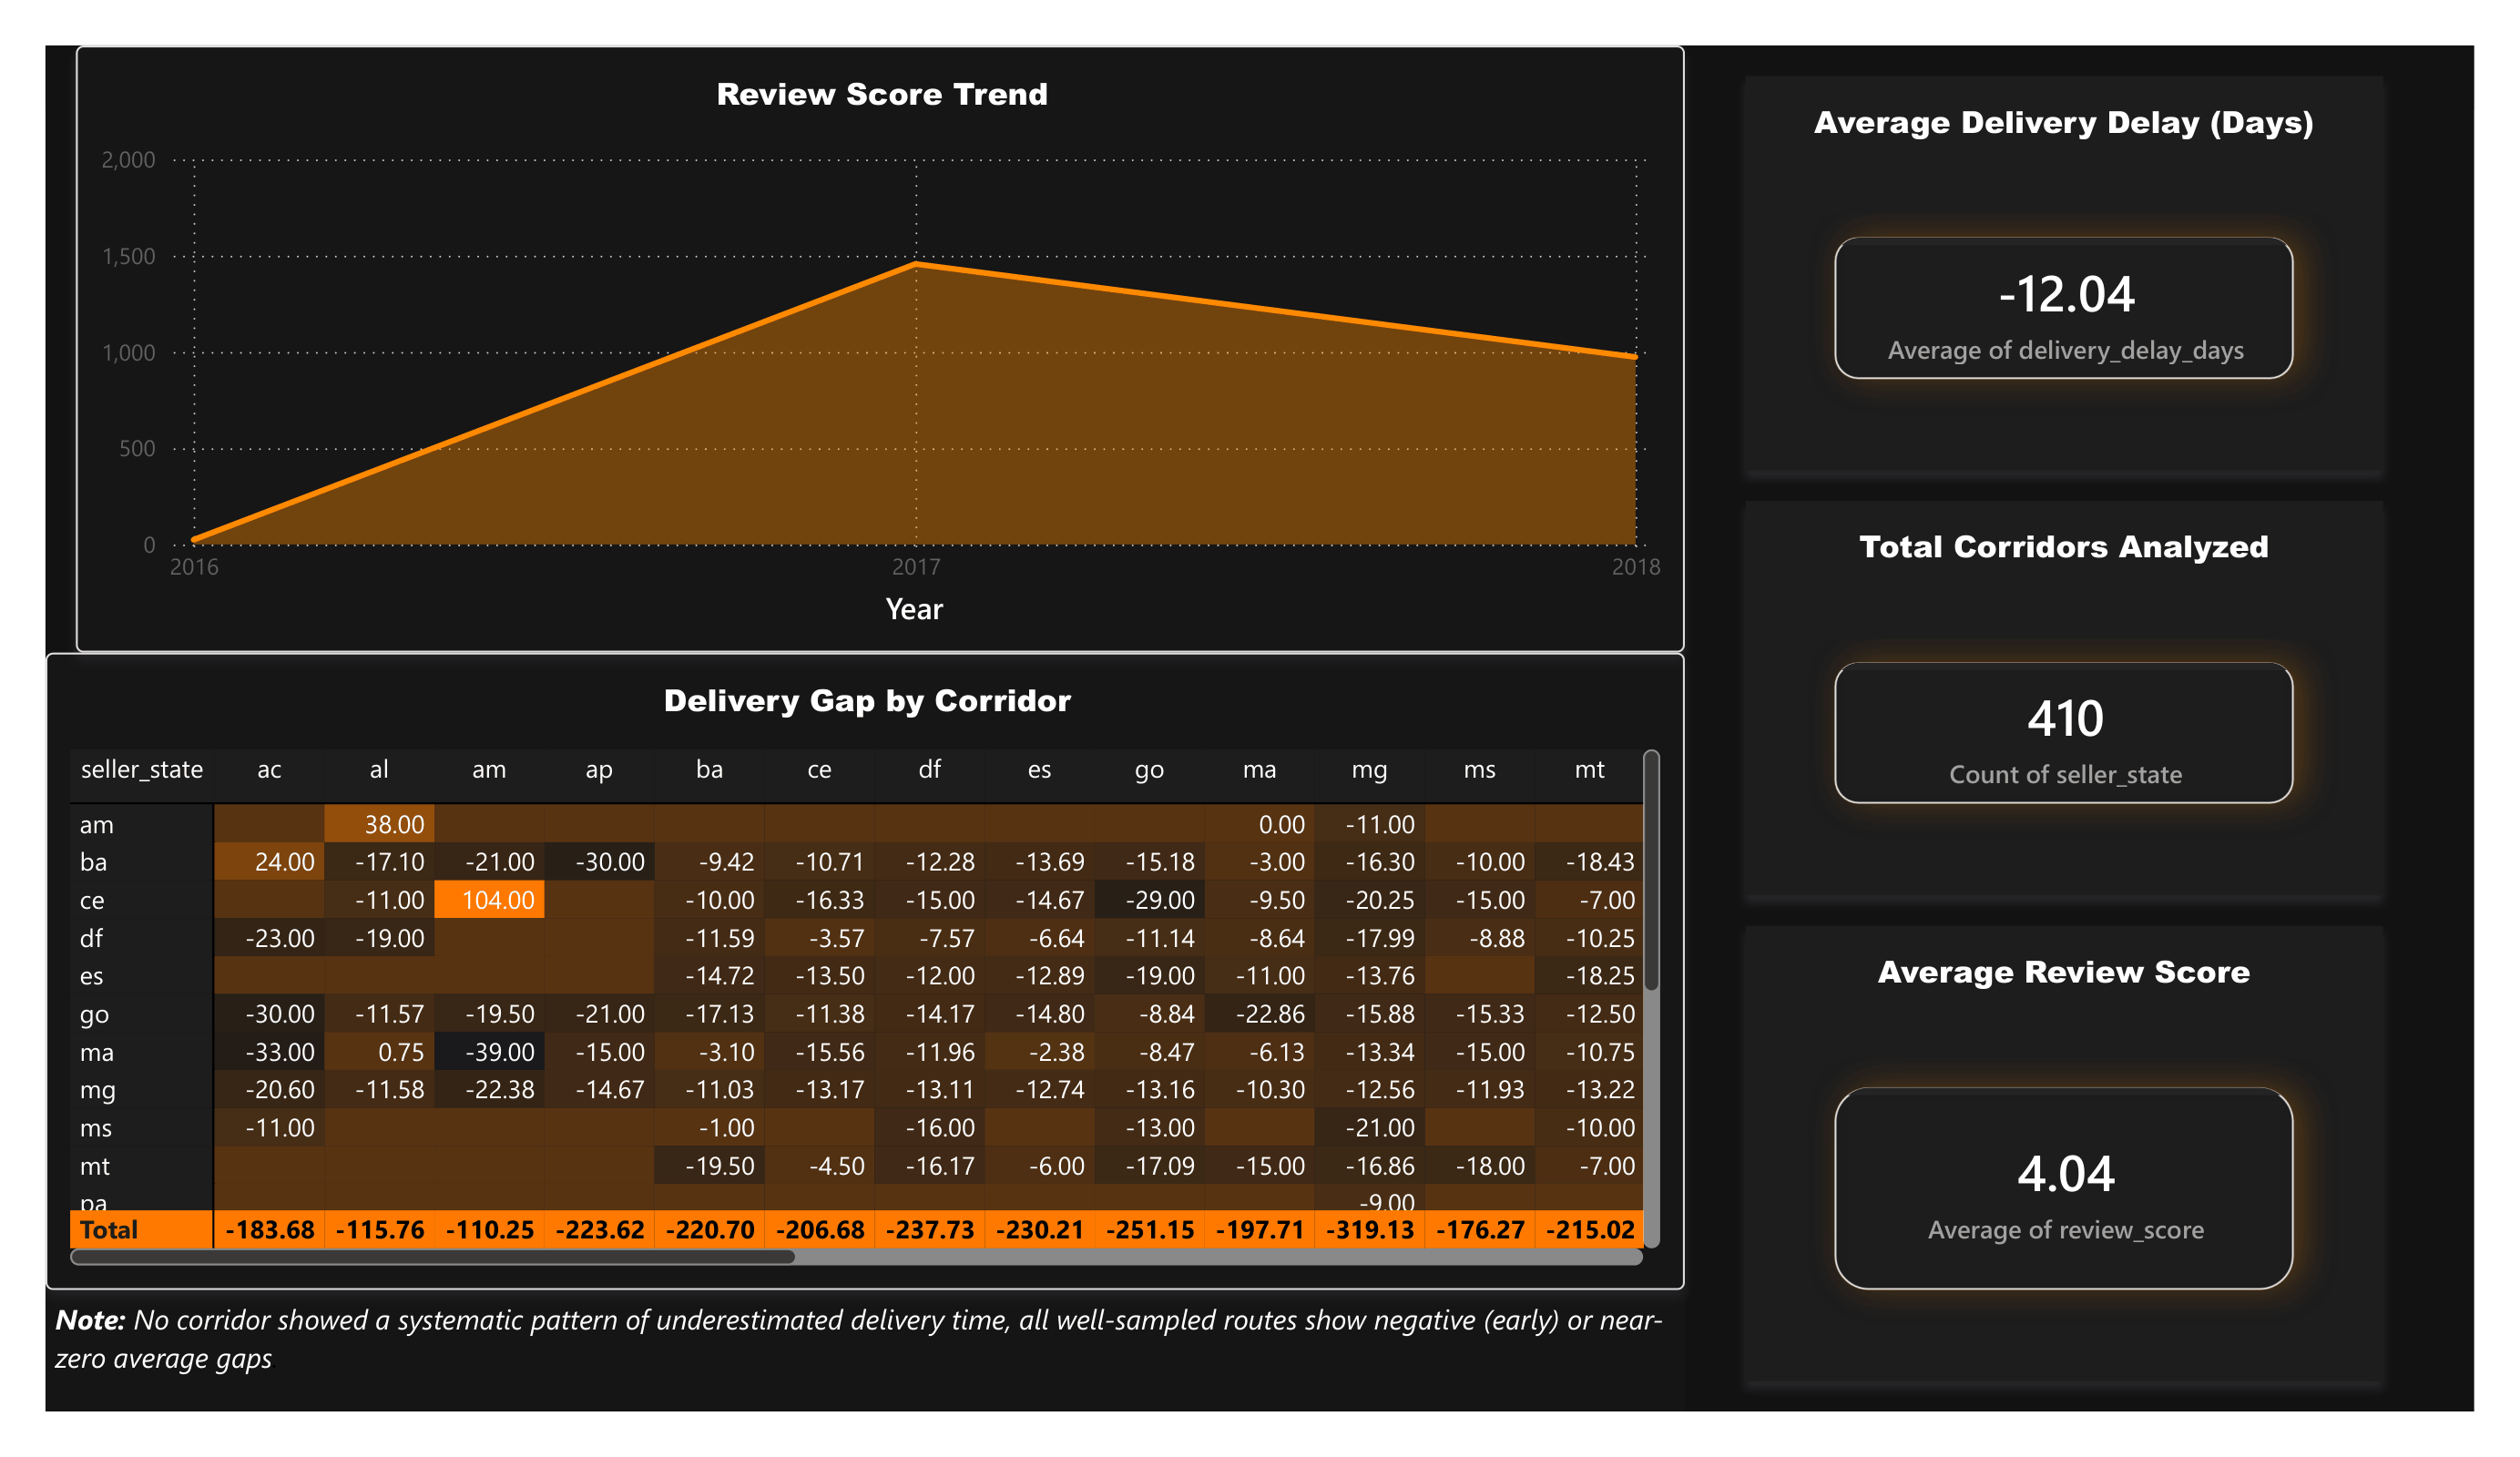

The dashboard page shown, as its layout file describes it:
{"tool":"powerbi","page":{"name":"Delivery & Reviews","canvas":[1280,720],"ordinal":3},"visuals":[{"type":"lineChart","title":"Review Score Trend","fields":{"Category":["kpi_review_score_decay.full_date.Variation.Date Hierarchy.Year","kpi_review_score_decay.full_date.Variation.Date Hierarchy.Quarter","kpi_review_score_decay.full_date.Variation.Date Hierarchy.Month","kpi_review_score_decay.full_date.Variation.Date Hierarchy.Day"],"Y":["Sum(kpi_review_score_decay.rolling_30day_avg_review_score)"]},"box":[16,0,848,320],"z":0},{"type":"pivotTable","title":"Delivery Gap by Corridor","fields":{"Rows":["kpi_delivery_gap_corridor.seller_state"],"Columns":["kpi_delivery_gap_corridor.customer_state"],"Values":["Sum(kpi_delivery_gap_corridor.avg_delivery_gap_days)"]},"box":[0,320,864,336],"z":1000},{"type":"textbox","box":[0,656,864,64],"z":2000},{"type":"cardVisual","title":"Average Delivery Delay (Days)","fields":{"Data":["Avg(fact_order_items.delivery_delay_days)"]},"box":[896,16,336,208],"z":3000},{"type":"cardVisual","title":"Total Corridors Analyzed","fields":{"Data":["CountNonNull(kpi_delivery_gap_corridor.seller_state)"]},"box":[896,240,336,208],"z":4000},{"type":"cardVisual","title":"Average Review Score","fields":{"Data":["Avg(fact_order_items.review_score)"]},"box":[896,464,336,240],"z":5000}]}

Visuals, with their boxes on the page's 1280x720 design canvas (x1, y1, x2, y2). These are canvas units, not pixel positions in the 2520x1457 screenshot, which may show the page scaled, cropped or inside an application window:
"Review Score Trend" lineChart: region(16, 0, 864, 320)
"Delivery Gap by Corridor" pivotTable: region(0, 320, 864, 656)
textbox: region(0, 656, 864, 720)
"Average Delivery Delay (Days)" cardVisual: region(896, 16, 1232, 224)
"Total Corridors Analyzed" cardVisual: region(896, 240, 1232, 448)
"Average Review Score" cardVisual: region(896, 464, 1232, 704)
